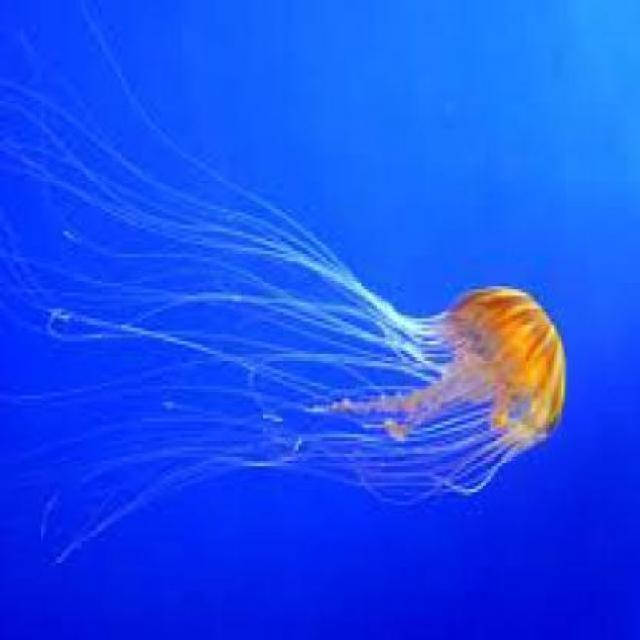Jellyfish: (20, 273, 569, 570)
